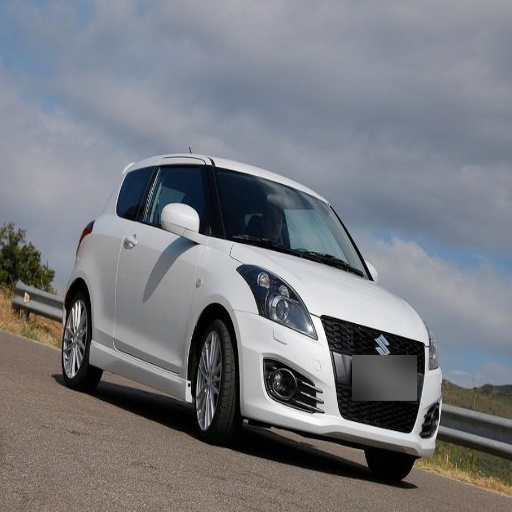front_bumper: (236, 313, 441, 451)
front_right_door: (117, 180, 191, 372)
front_right_light: (239, 269, 318, 338)
